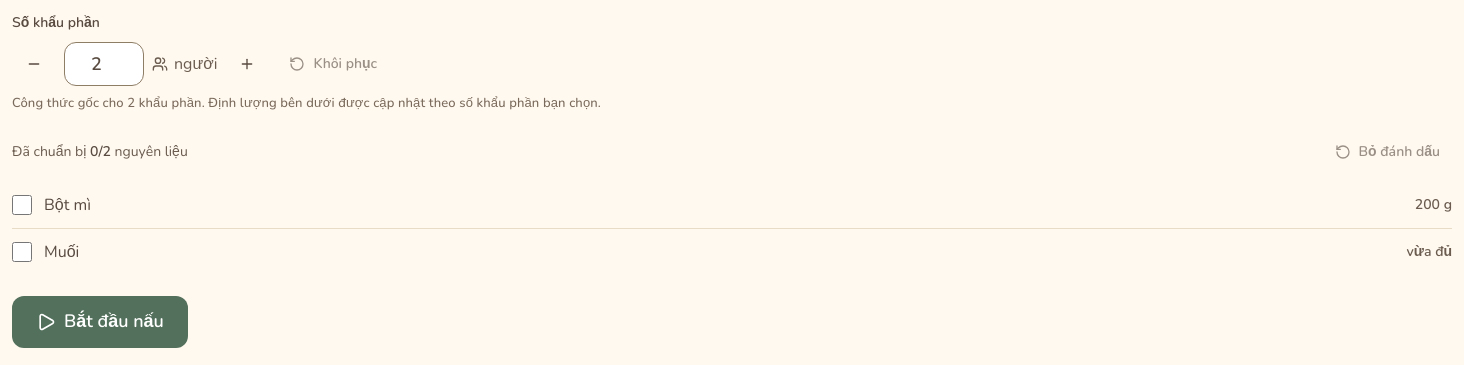
Scenario: P09 — CookingExperience (tích hợp) › đổi khẩu phần → định lượng nguyên liệu cập nhật theo tỷ lệ
Expected: the text "200 g" is shown, [1415,194,1452,216]
Replace the text in the number field with "4" at {"x": 104, "y": 64}, box [64,42,144,86]
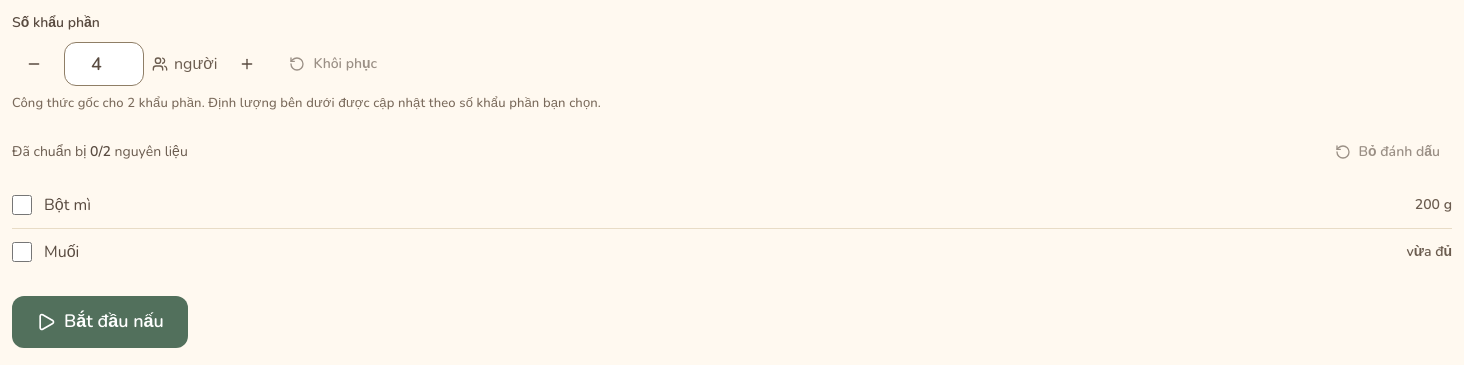
Leave the number field, box [64,42,144,86]
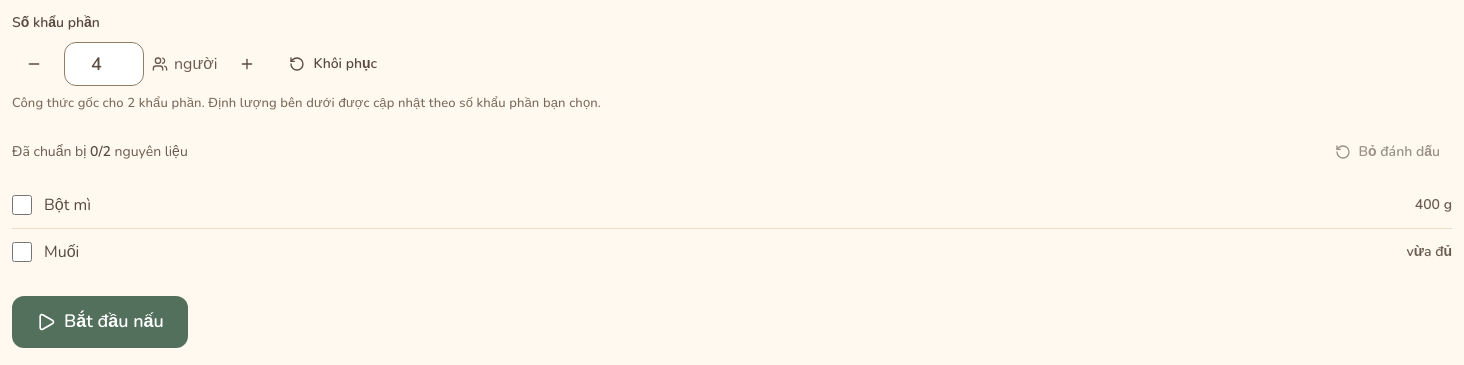
Now the text "400 g" is shown, box [1415,194,1452,216]
